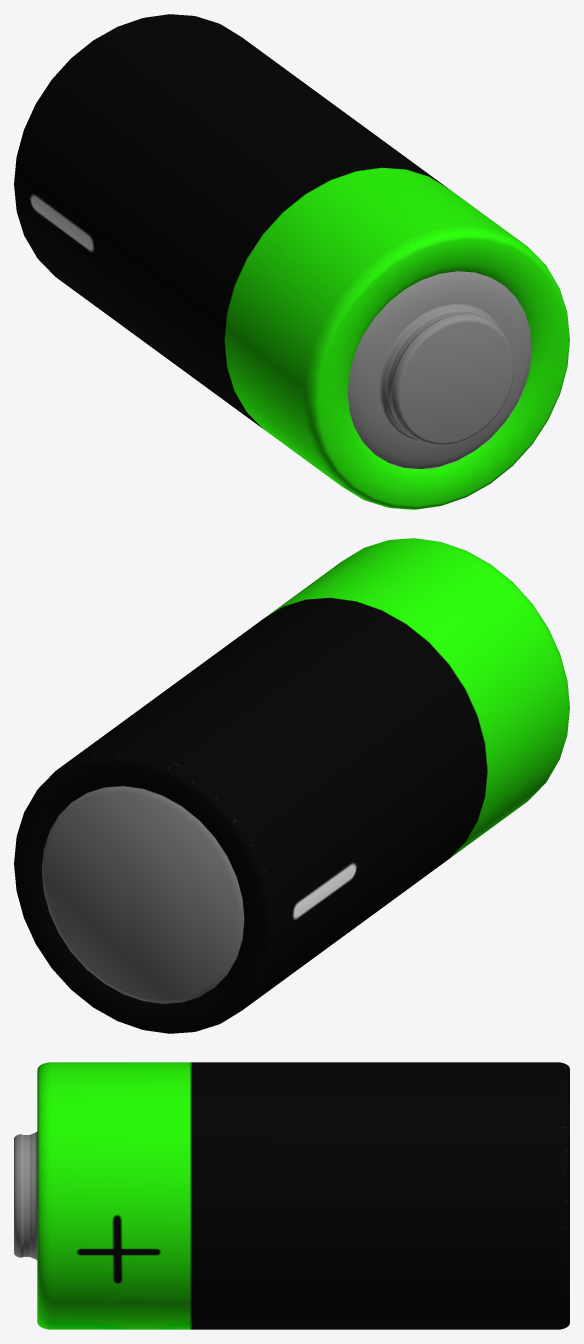
Rendered from batterywithTexture.fbx.
3 renders of one model, top to bottom at view 1: azimuth 30°, elevation 25°; view 2: azimuth 150°, elevation 25°; view 3: azimuth 270°, elevation 25°, orthographic. The views are drawn at different scales.
Parts seen in each view (by area): view 1: Battery; view 2: Battery; view 3: Battery.
Boxes of the visible parts, x1=… form: Battery: x1=14, y1=14, x2=569, y2=509; Battery: x1=14, y1=538, x2=569, y2=1033; Battery: x1=14, y1=1062, x2=569, y2=1329.
Bounding box in the file's own units: 200 × 200 × 415.
3 materials, 3 textured.
